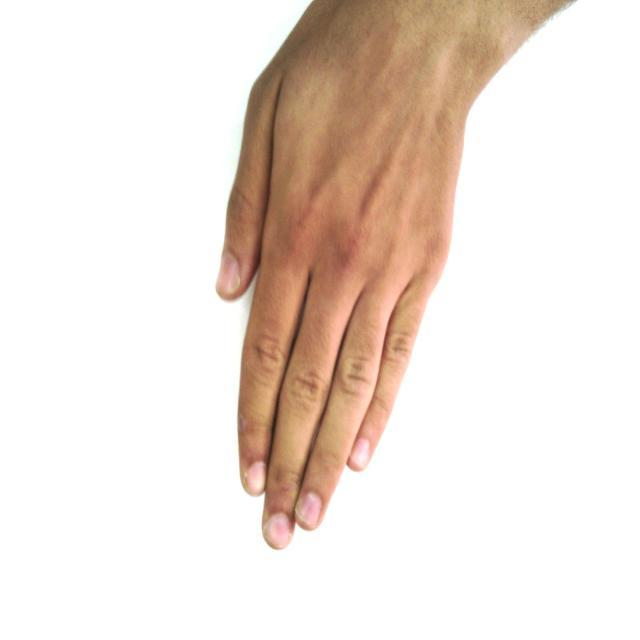Fingernail: (216, 252, 240, 292), (297, 492, 322, 526), (267, 513, 290, 548), (247, 463, 264, 494), (352, 438, 369, 467)
